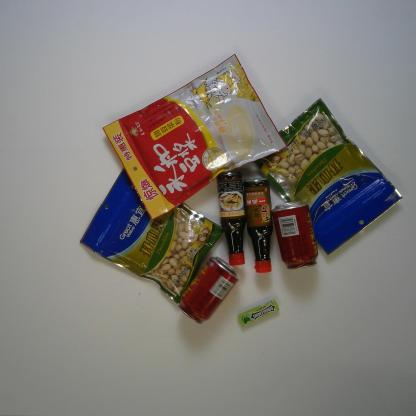Dried Fruit: (251, 94, 404, 258), (76, 163, 226, 310)
Drink: (175, 253, 240, 327), (271, 200, 320, 270)
Gum: (237, 298, 281, 330)
Instant Drink: (97, 51, 289, 222)
Seasoner: (240, 175, 274, 276), (215, 166, 247, 267)
